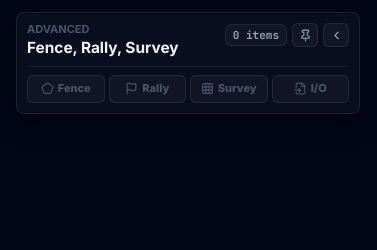
Test case: AdvancedMissionPanel › does not render a fence form before a saved fence is selected or created
Click the tab "Fence". click: (66, 89)
box: [27, 75, 104, 103]
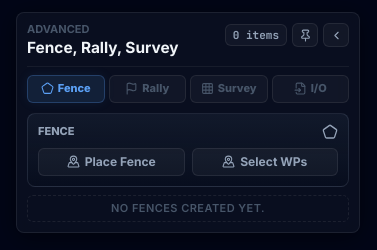
Check: the text "No fences created yet." is shown, box [27, 195, 349, 222]
